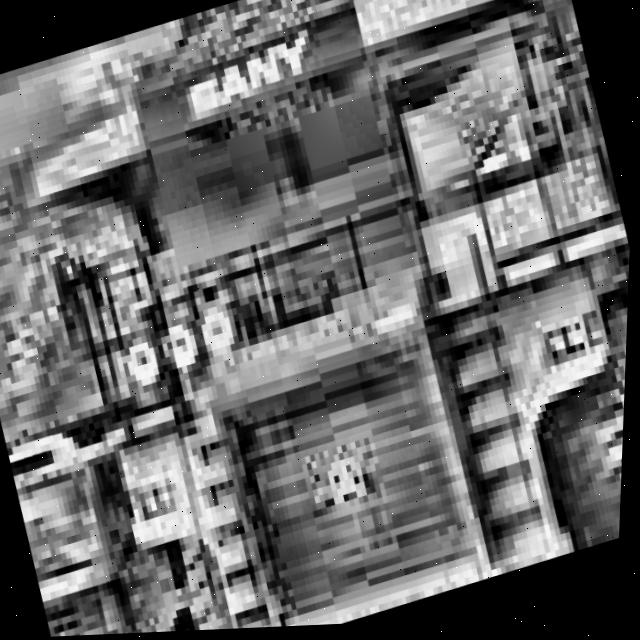dump_truck: (0, 0, 640, 640), (0, 356, 226, 640)
